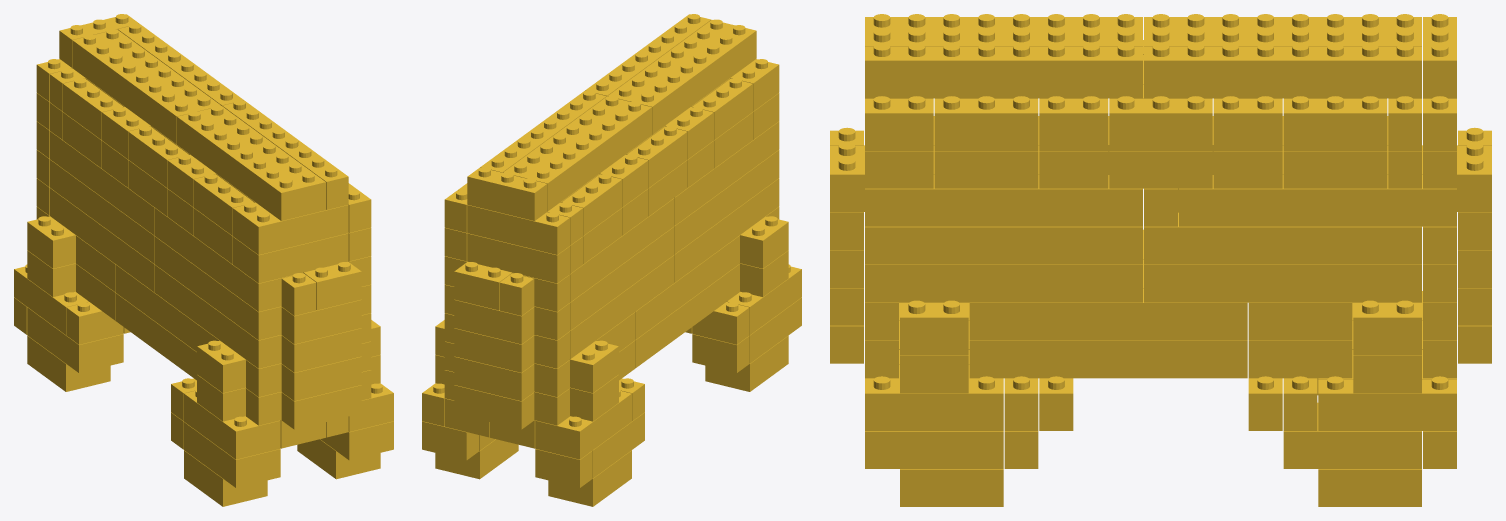
The picture shows the model from 3 angles, left to right: view 1: azimuth 30°, elevation 25°; view 2: azimuth 150°, elevation 25°; view 3: azimuth 270°, elevation 25°; orthographic projection. The views are drawn at different scales.
Visible parts, largest first — view 1: car_L4_P1_S71107; view 2: car_L4_P1_S71107; view 3: car_L4_P1_S71107.
Part boxes in pixels (box(x1,y1,x2,y2)): car_L4_P1_S71107: box(14, 14, 393, 506); car_L4_P1_S71107: box(422, 14, 801, 506); car_L4_P1_S71107: box(830, 14, 1491, 506).
Size of the model in its own units: 6.97 by 13.39 by 18.97.
